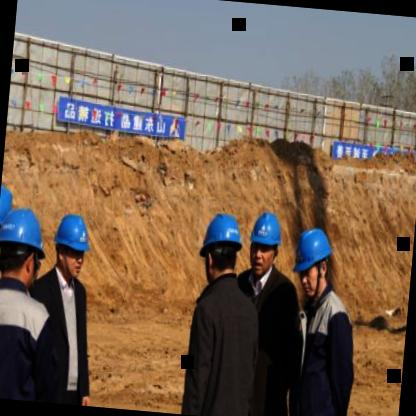helmet: (0, 202, 52, 289), (197, 210, 245, 286), (294, 227, 342, 298), (51, 209, 93, 284), (246, 209, 284, 279), (0, 178, 15, 269)
